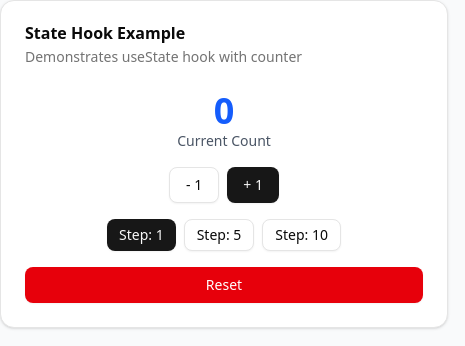
Test: Counter › increments count by 1 when +1 button is clicked
Step 1. Click the button "+ 1" → (253, 185), box [227, 167, 279, 203]
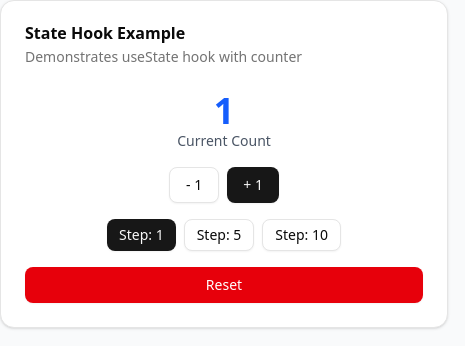
expect the text "1" is shown: met, box [214, 86, 234, 135]
